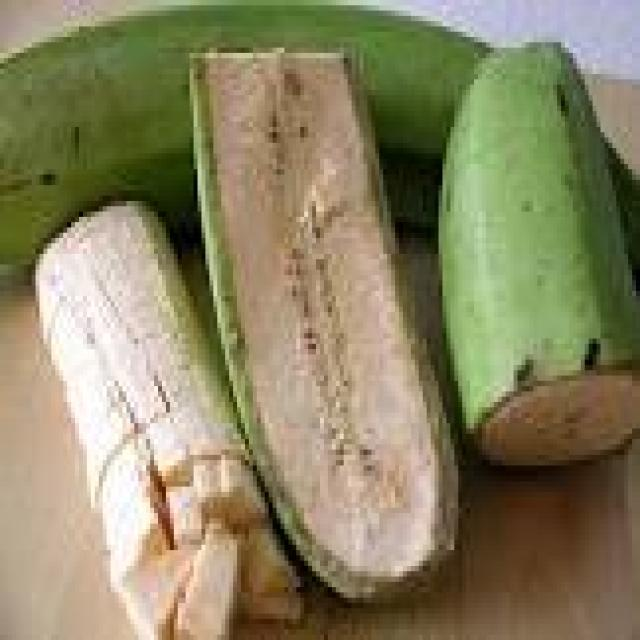banana: (194, 48, 458, 597), (0, 0, 489, 264), (0, 0, 485, 264), (36, 201, 300, 639), (439, 43, 639, 465)
